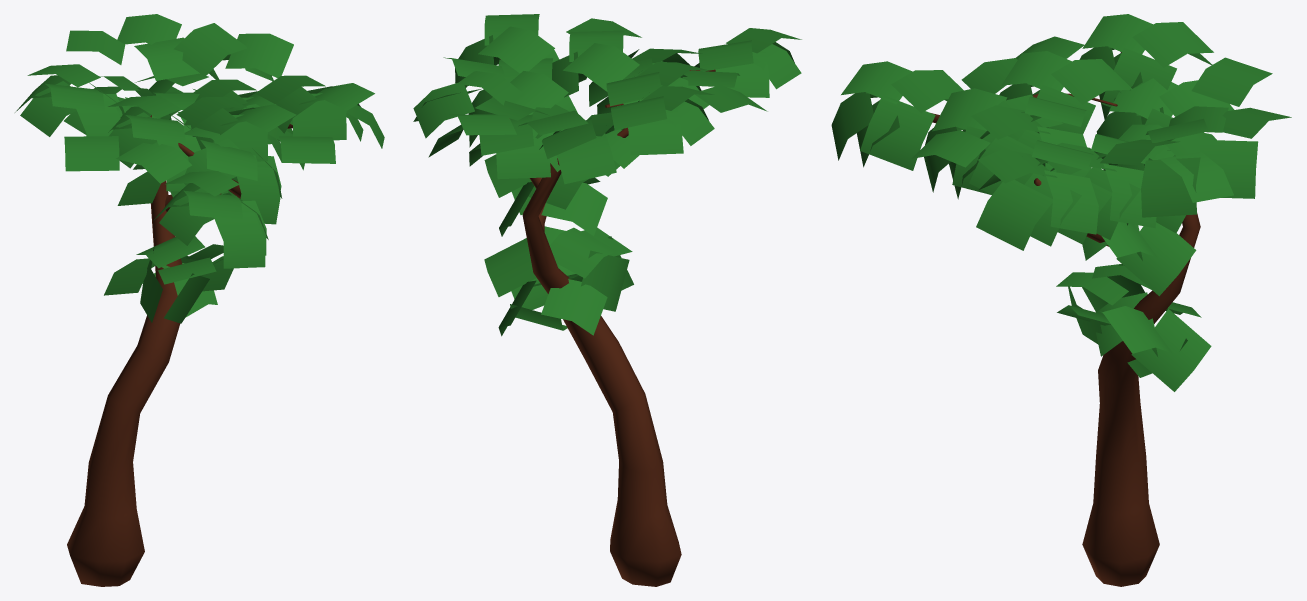
The model's file is tree2.fbx.
3 renders of one model, left to right at view 1: azimuth 30°, elevation 25°; view 2: azimuth 150°, elevation 25°; view 3: azimuth 270°, elevation 25°, orthographic. The views are drawn at different scales.
Parts seen in each view (by area): view 1: inner leaves.001, trunk.001; view 2: inner leaves.001, trunk.001; view 3: inner leaves.001, trunk.001.
Part boxes in pixels (x1=…): inner leaves.001: x1=15, y1=14, x2=384, y2=323; trunk.001: x1=67, y1=115, x2=292, y2=586; inner leaves.001: x1=413, y1=14, x2=801, y2=336; trunk.001: x1=500, y1=59, x2=715, y2=586; inner leaves.001: x1=831, y1=14, x2=1291, y2=391; trunk.001: x1=931, y1=52, x2=1200, y2=586.
Size of the model in its own units: 2216 by 3365 by 2629.
